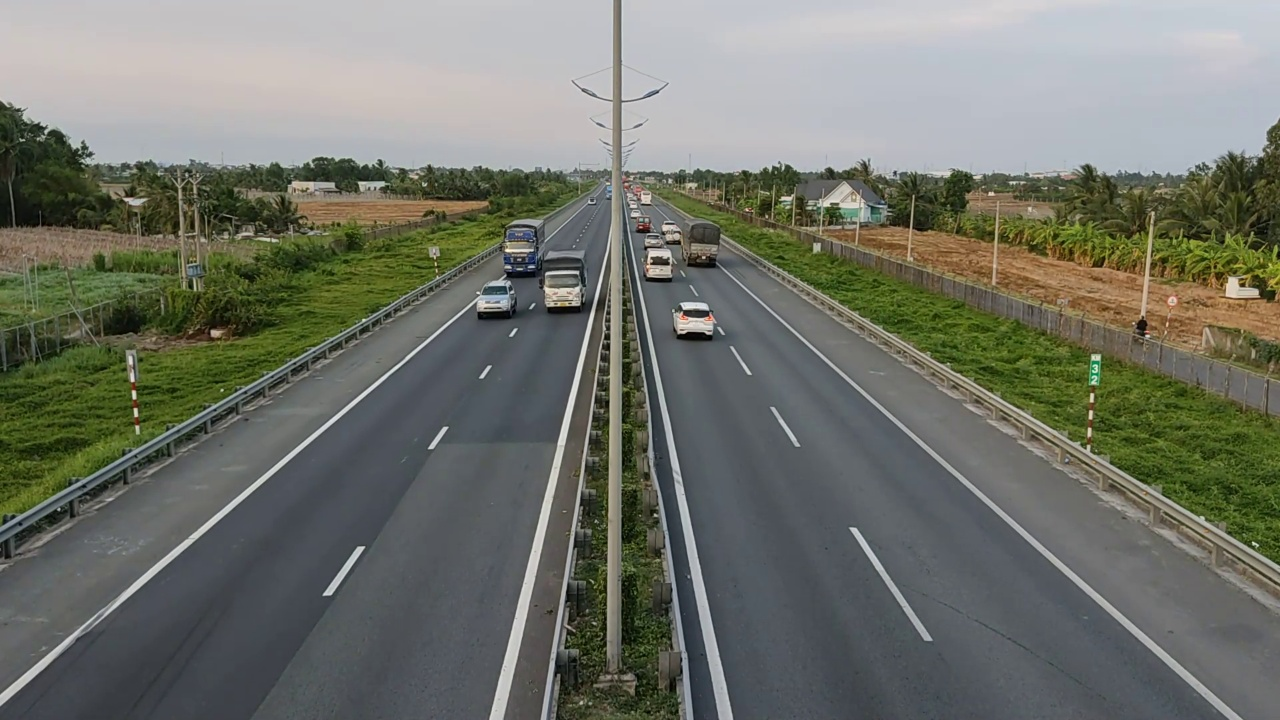car: (670, 300, 717, 339), (475, 279, 518, 319), (643, 248, 675, 281)
truck: (537, 248, 590, 315), (683, 220, 721, 266)
